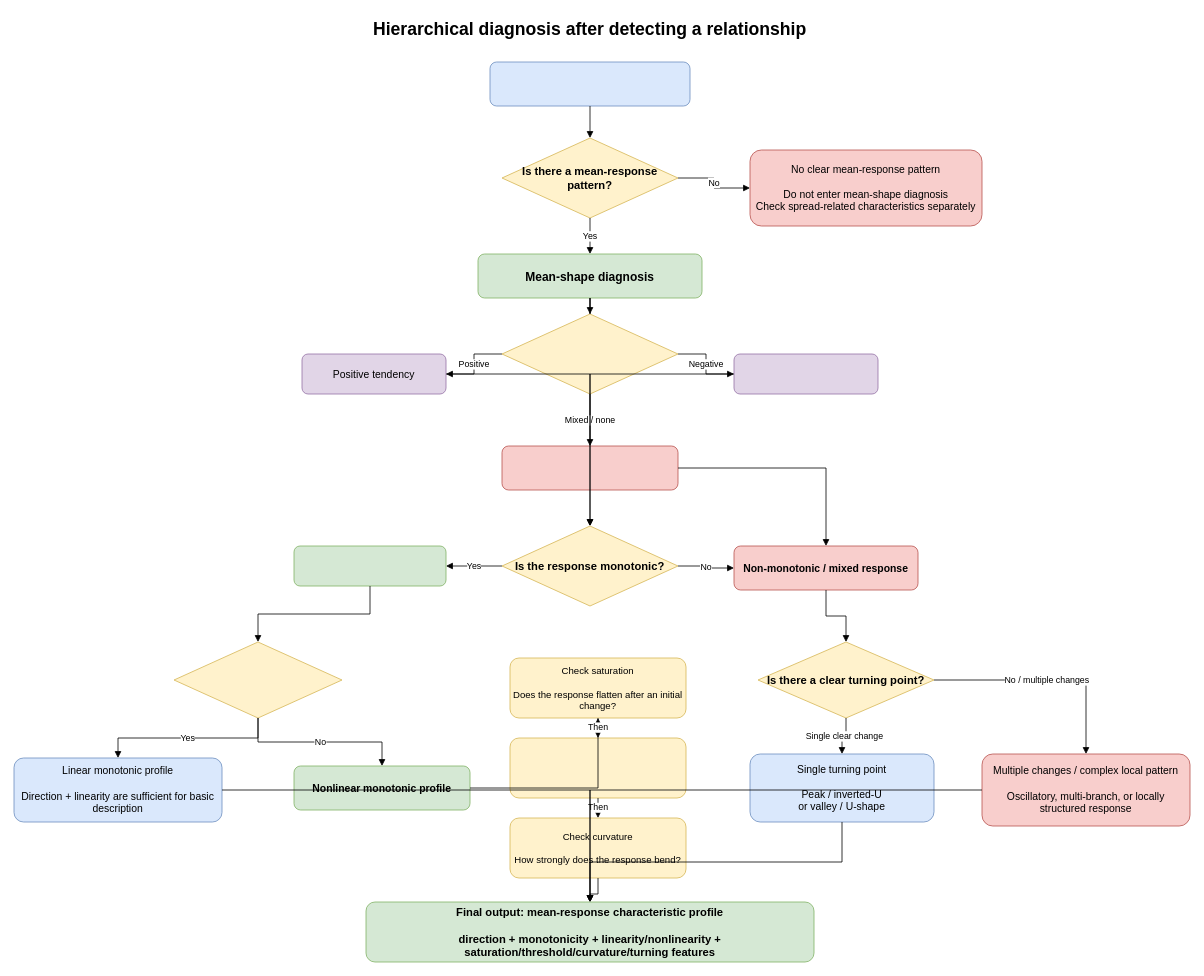
Some shapes in this 1204 by 976 pixel diagram are drawn without their labels. The shapes that lost their labels are listed below. From the top down, each one's centre as x and y in pixels, then its label:
At point (589, 83): "Detectable relationship".
At point (589, 353): "Is there a dominant direction?".
At point (805, 373): "Negative tendency".
At point (589, 467): "Mixed / no dominant direction".
At point (369, 565): "Monotonic response".
At point (257, 679): "Is it approximately linear?".
At point (597, 767): "Check threshold Does the response activate after a weak initial range?".
